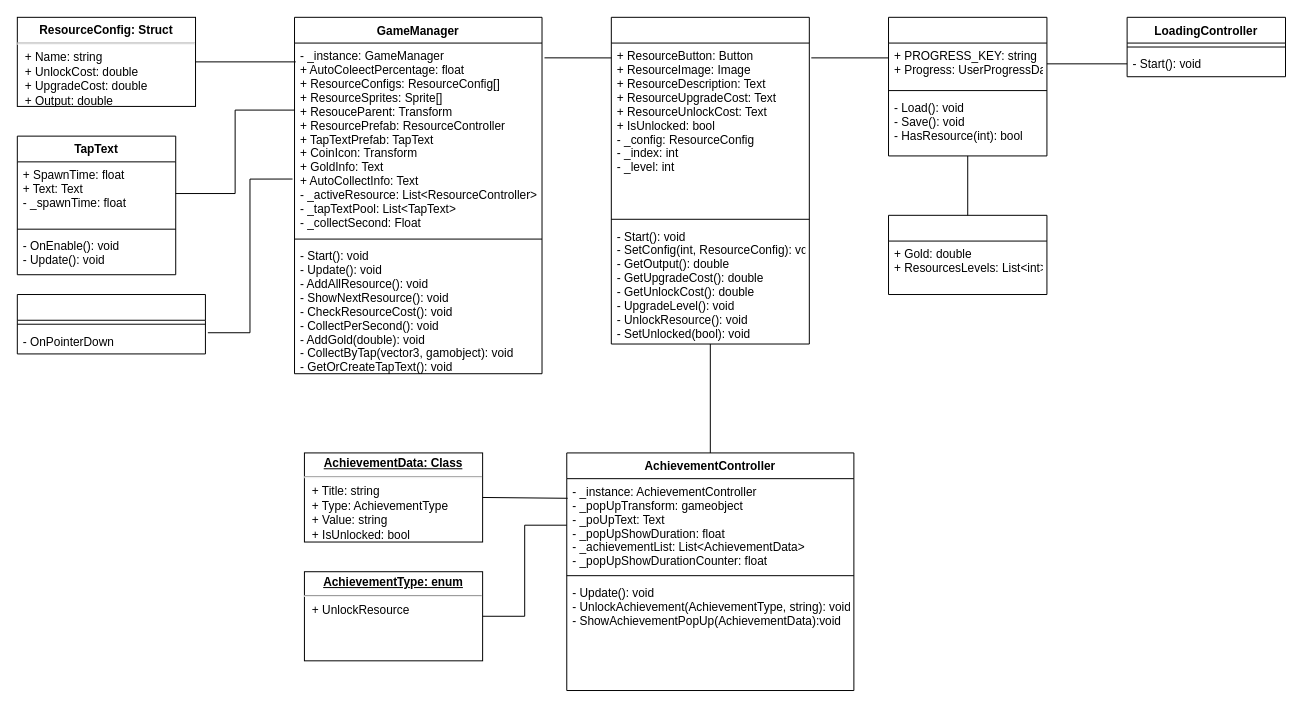
Some shapes in this 1303 by 711 pixel diagram are drawn without their labels. The shapes that lost their labels are listed below. From the top down, each one's box as (x1, y1, x2, y2) in pixels, then its label:
(888, 16, 1047, 156): UserDataManager
(610, 16, 809, 344): ResourceController
(888, 214, 1047, 295): UserProgressData
(16, 294, 205, 354): TapArea: IPointerDownHandler
